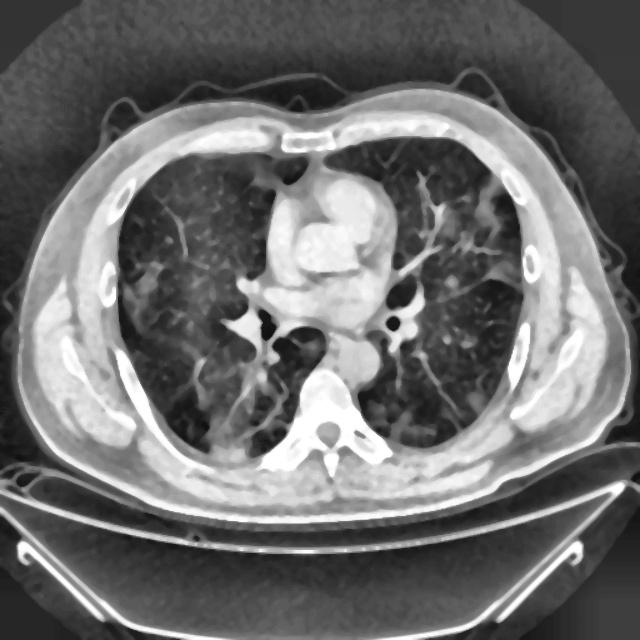covid: (10, 72, 636, 534)
